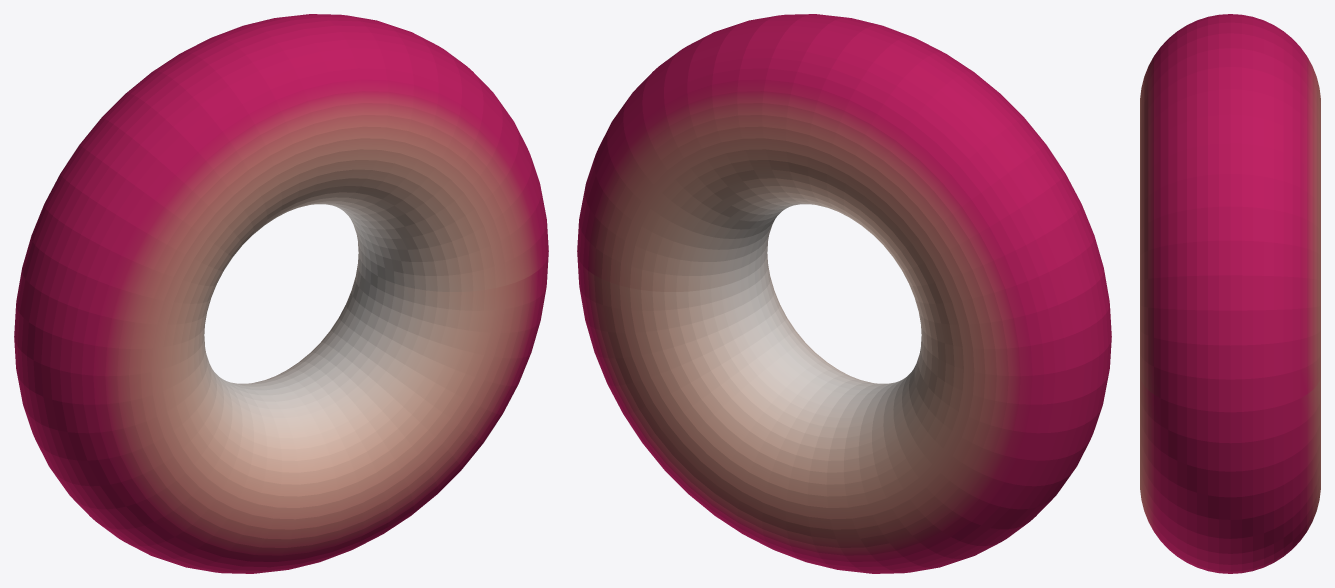
The picture shows the model from 3 angles, left to right: view 1: azimuth 30°, elevation 25°; view 2: azimuth 150°, elevation 25°; view 3: azimuth 270°, elevation 25°; orthographic projection. The views are drawn at different scales.
Visible parts, largest first — view 1: world; view 2: world; view 3: world.
Boxes of the visible parts, x1,y1,x2,y2 form: world: (14, 14, 548, 573); world: (577, 14, 1111, 573); world: (1140, 14, 1320, 573).
Bounding box in the file's own units: 27.6 × 27.55 × 8.92.
